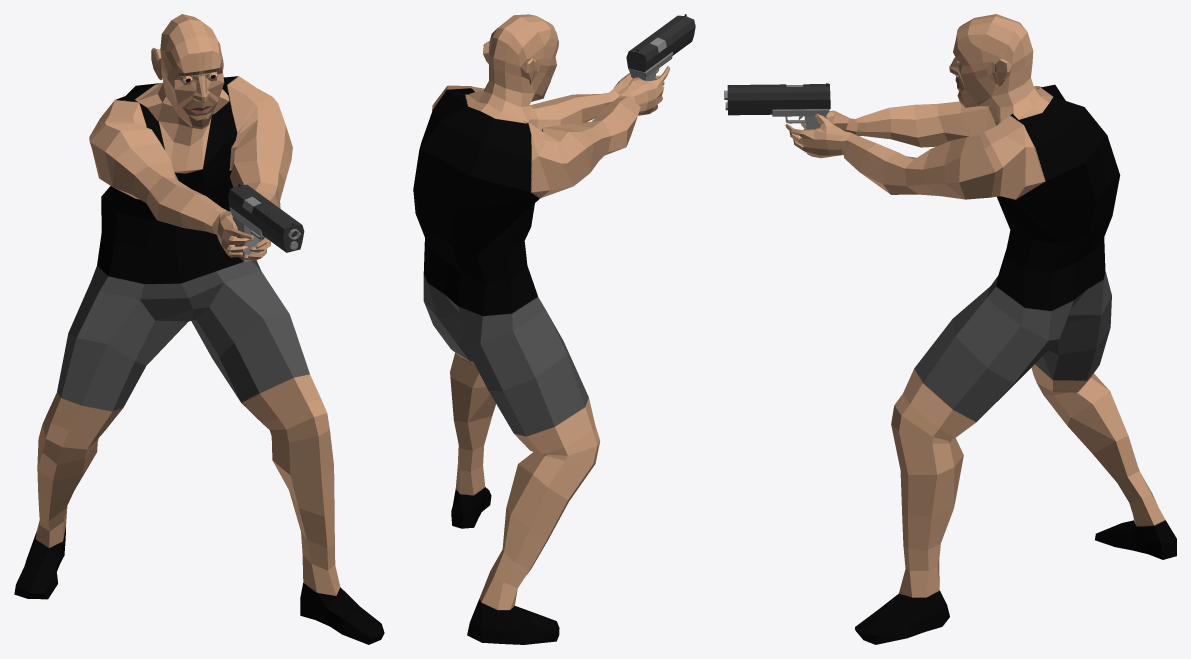
The model's file is PlayerShoot(26).obj.
3 views of the same model, side by side, from view 1: azimuth 30°, elevation 25°; view 2: azimuth 150°, elevation 25°; view 3: azimuth 270°, elevation 25° (orthographic). The views are drawn at different scales.
Visible parts, largest first — view 1: Plane002, Box003; view 2: Plane002, Box003; view 3: Plane002, Box003.
Boxes of the visible parts, <box> form: Plane002: <box>14,14,384,644</box>; Box003: <box>228,183,304,262</box>; Plane002: <box>413,14,669,644</box>; Box003: <box>626,14,695,80</box>; Plane002: <box>785,14,1176,644</box>; Box003: <box>724,83,830,152</box>.
Size of the model in its own units: 713 by 1664 by 1203.
